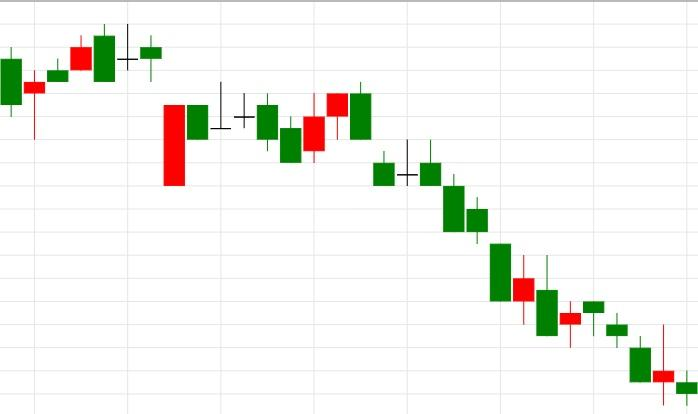bearish_engulfing_fall: (0, 24, 116, 140), (279, 81, 372, 164)
